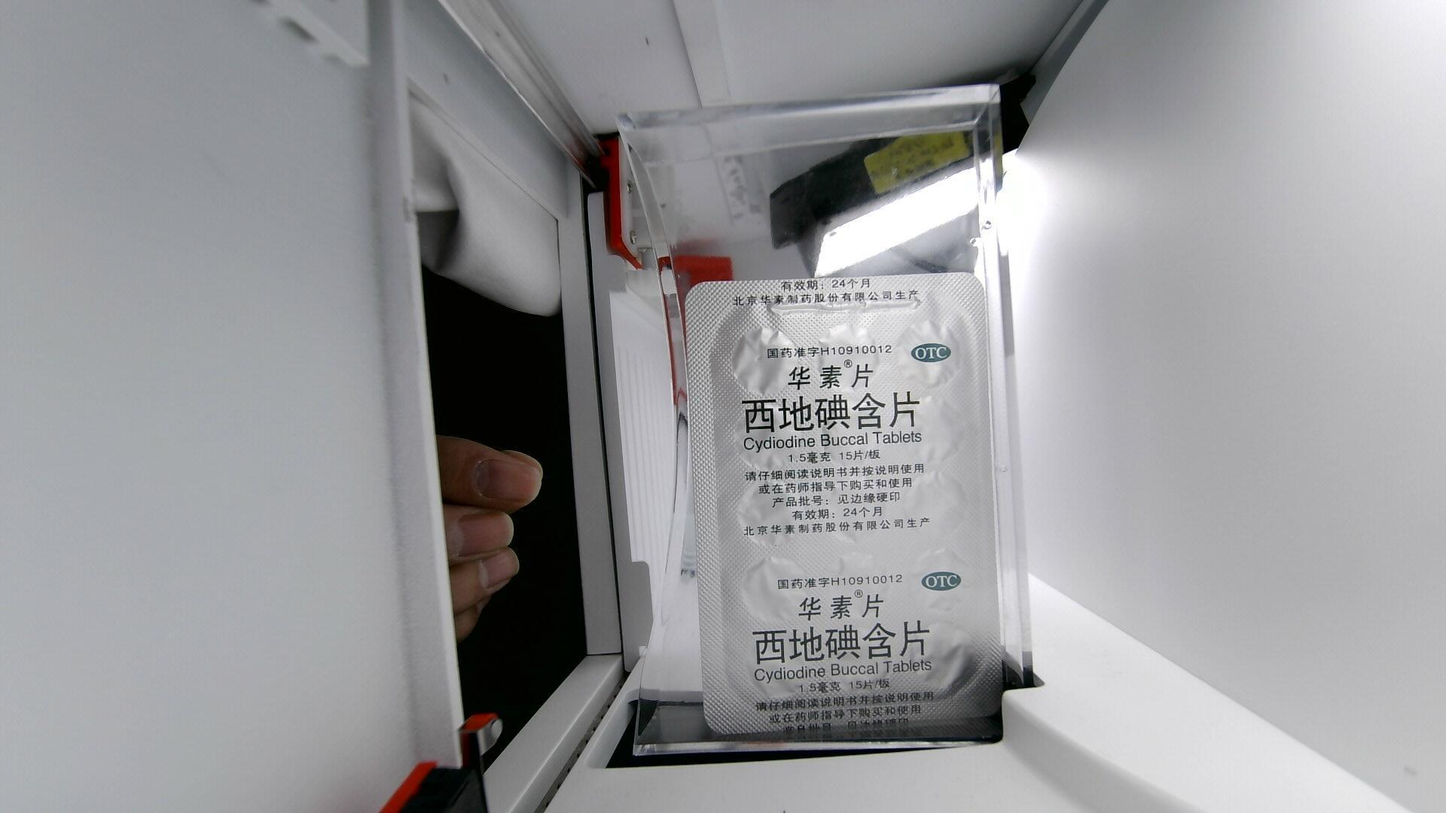Pill Back: (726, 328, 801, 397), (811, 323, 883, 391), (825, 550, 891, 624), (898, 321, 968, 388), (908, 553, 972, 626), (741, 557, 815, 620), (824, 632, 900, 693), (904, 625, 975, 690), (728, 407, 801, 470), (897, 396, 965, 462), (898, 470, 966, 536), (736, 480, 802, 545), (755, 637, 813, 700), (820, 416, 883, 470), (820, 482, 886, 533)
